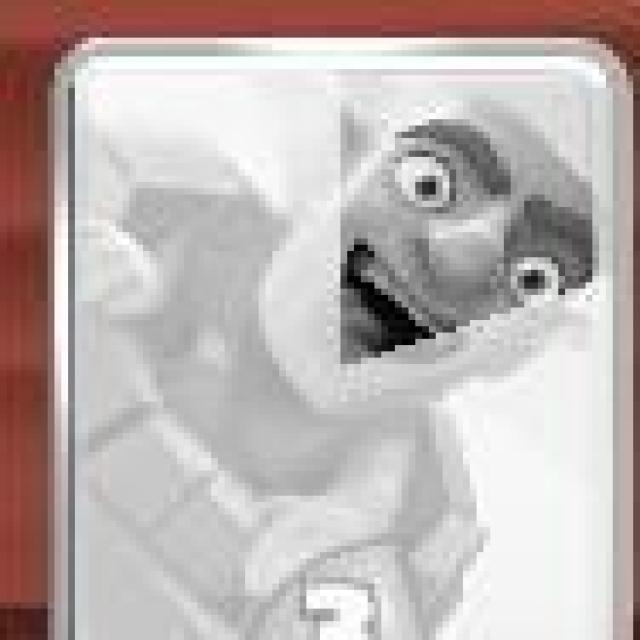Goblin_Barrel: (50, 34, 636, 640)
